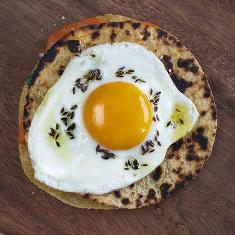fried egg: (39, 63, 187, 183)
